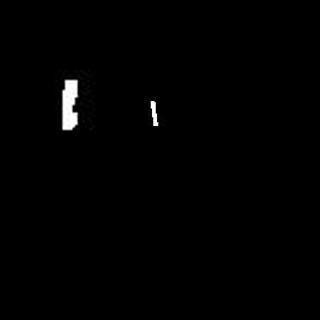one: (60, 77, 82, 132), (150, 98, 159, 124)
